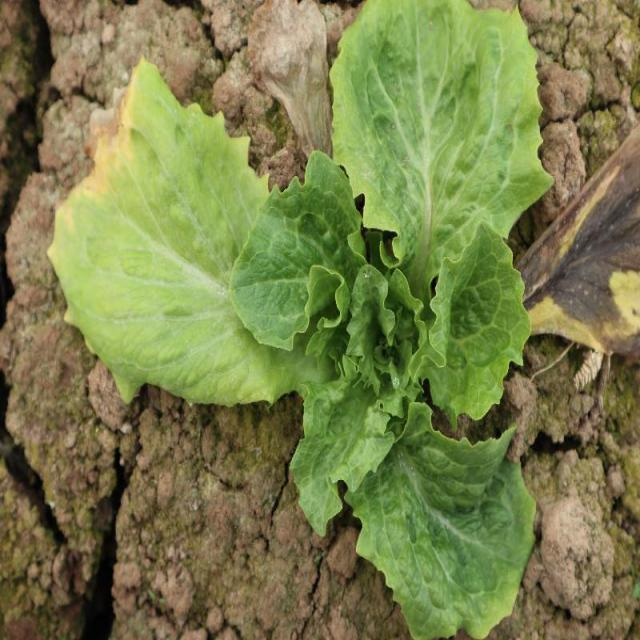crop: (50, 0, 558, 640)
